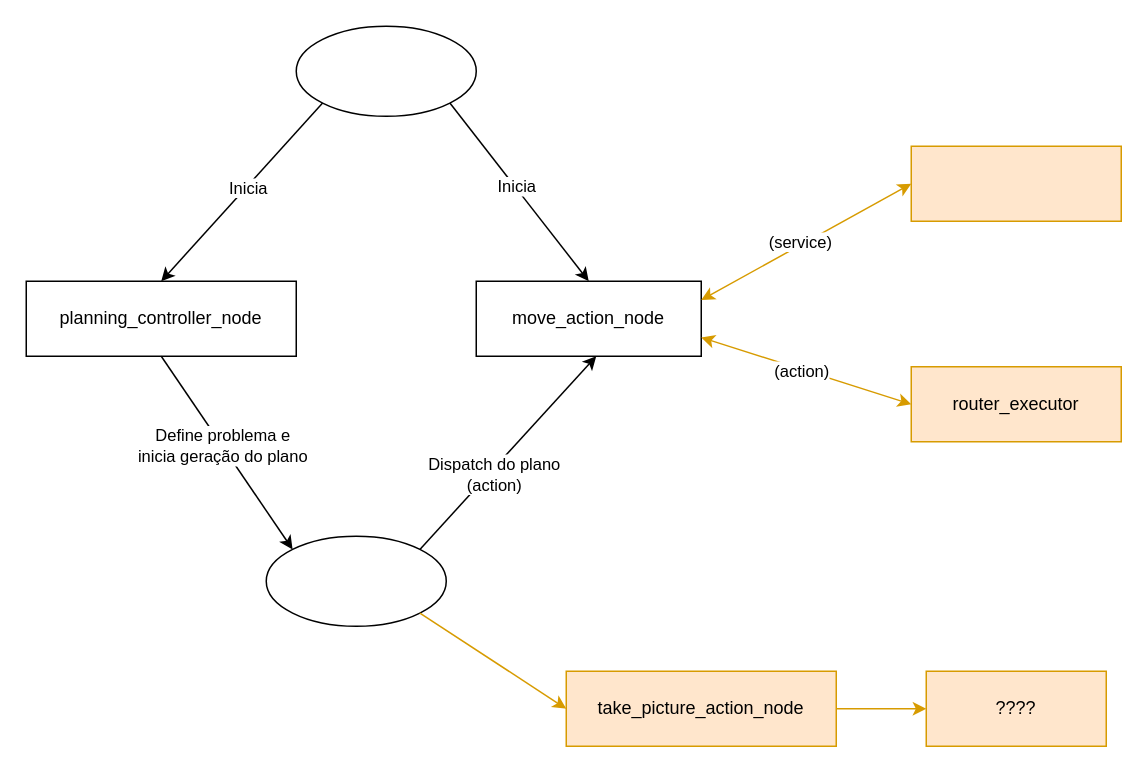
The diagram is 1148 pixels wide and 773 high, and some of its shapes have lost their labels. The centre of each missing label's shape, as x and y in pixels:
"Launch script" goes at (x=385, y=70).
"PlanSys2" goes at (x=355, y=580).
"router_generator" goes at (x=1015, y=183).
